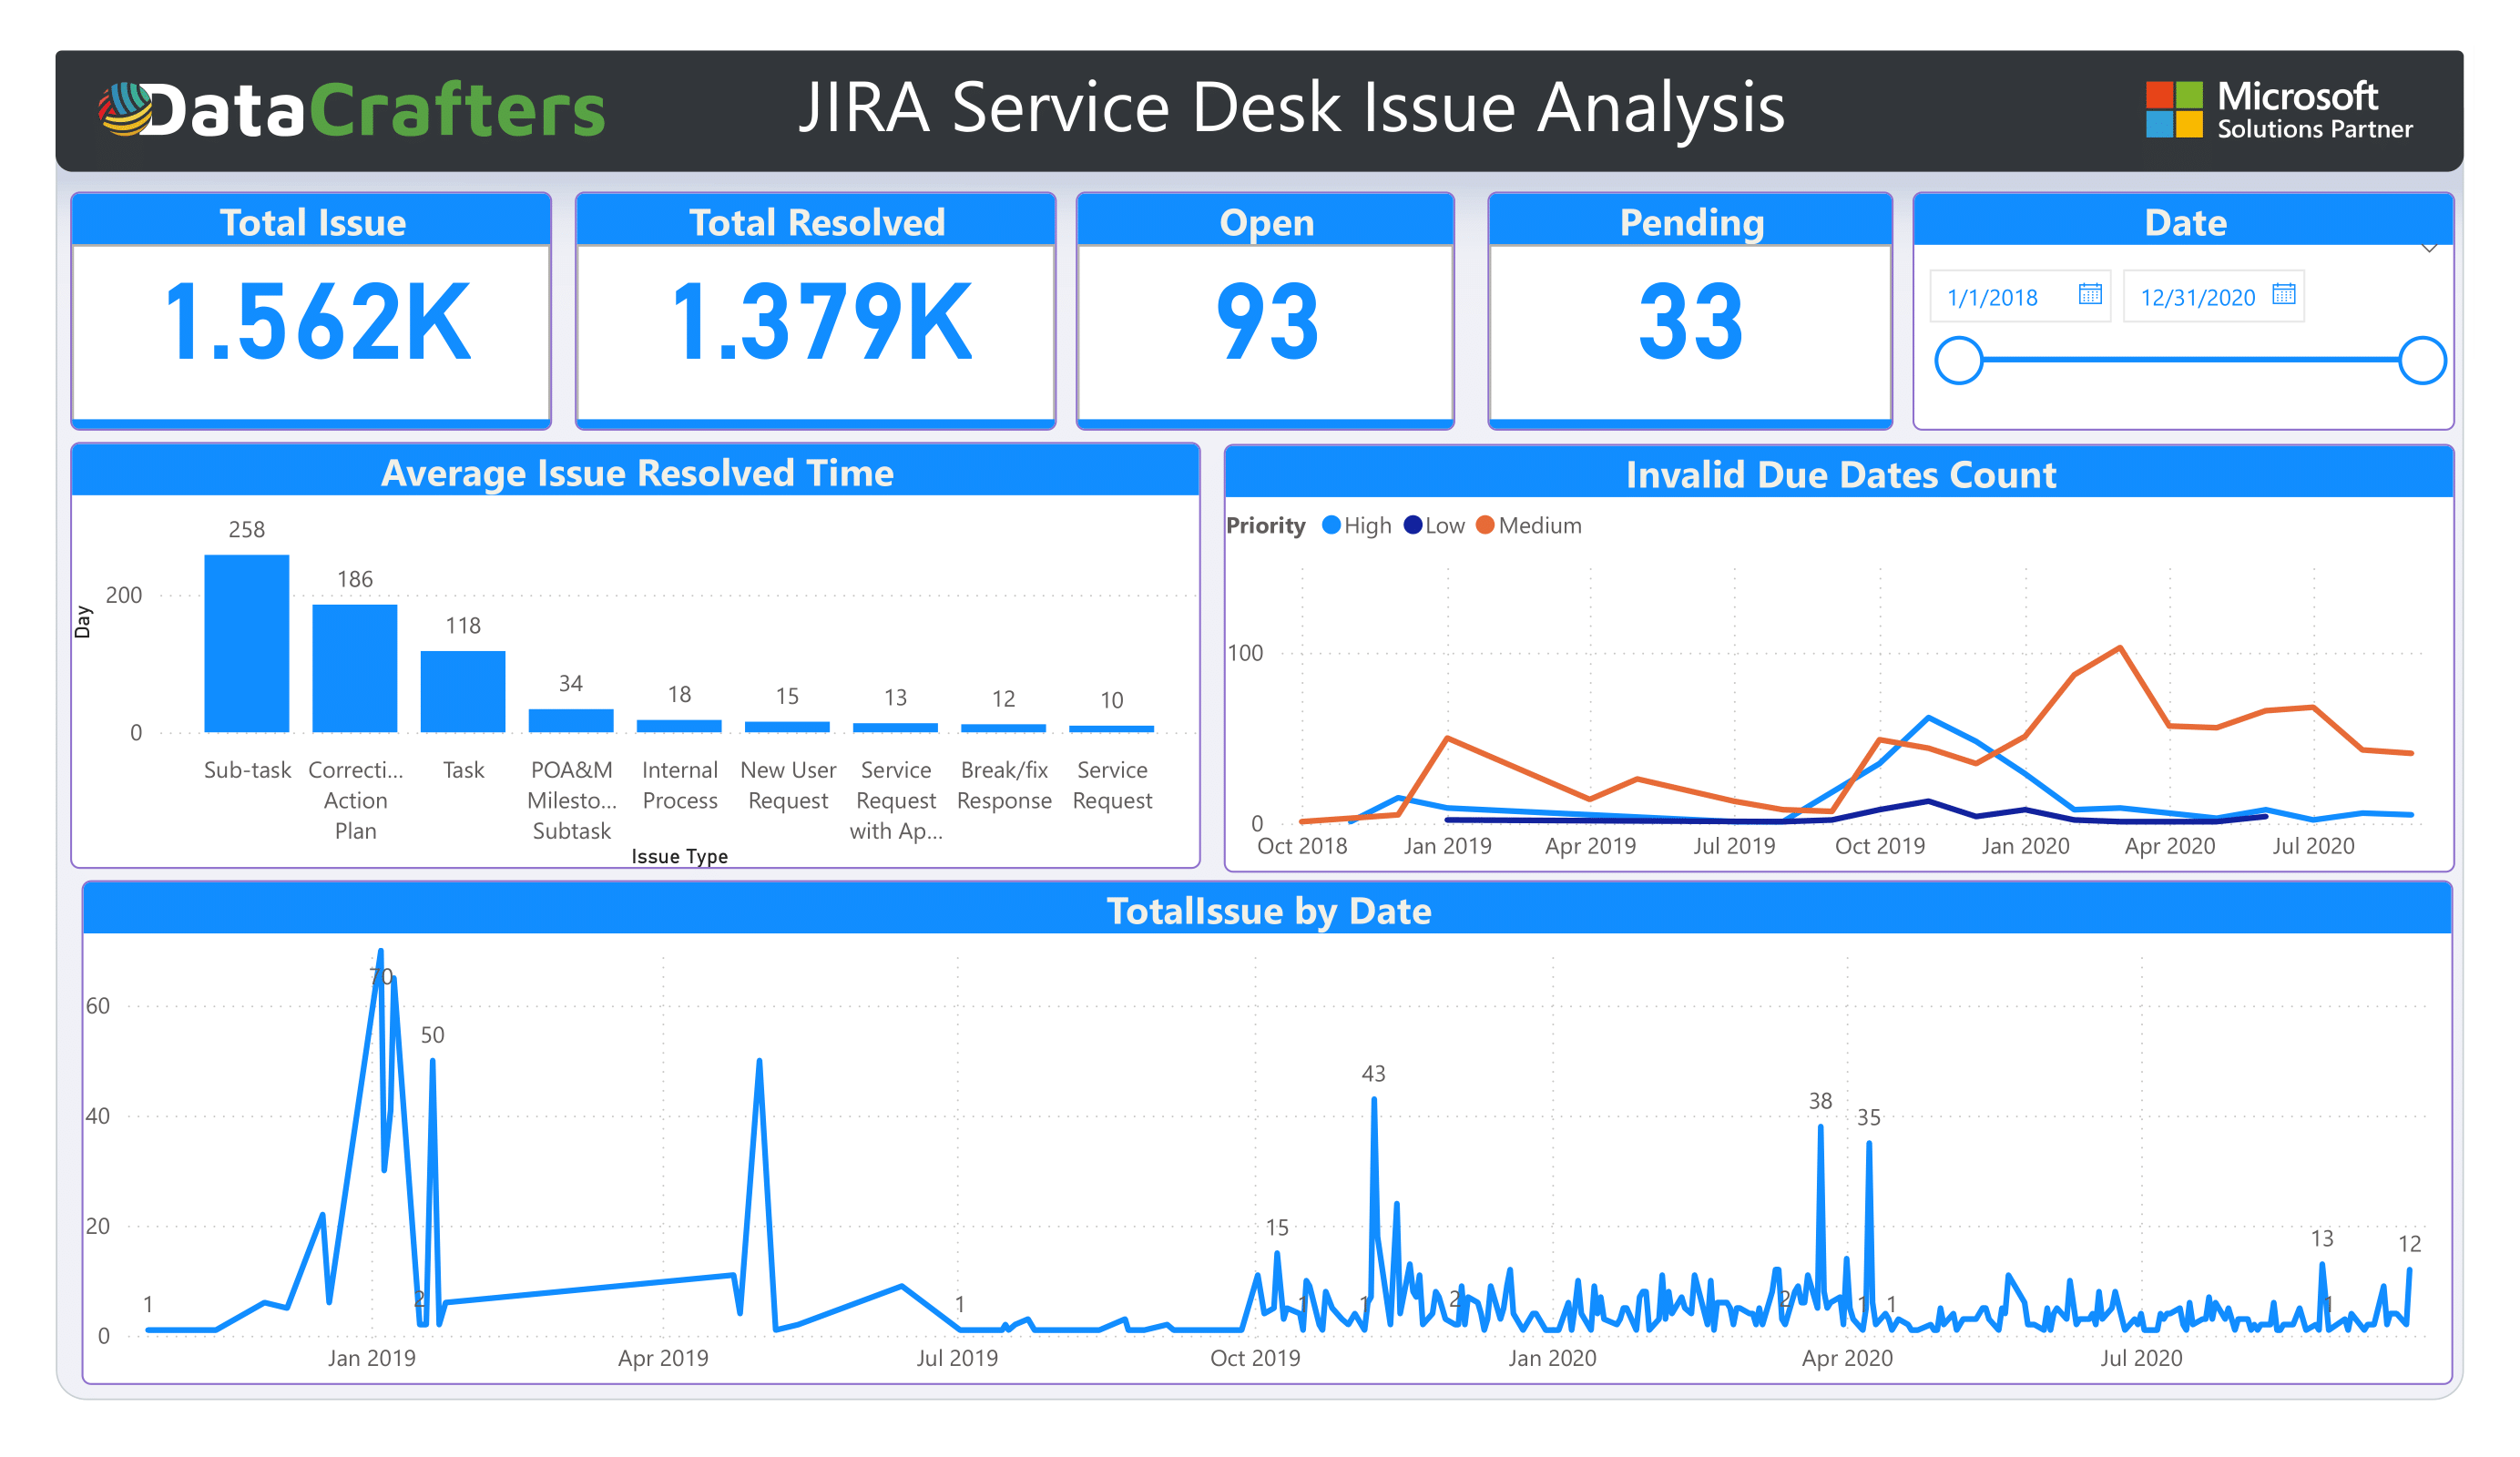

This screenshot's page, from the dashboard's own definition file:
{"tool":"powerbi","page":{"name":"Page 3","canvas":[1280,720],"ordinal":1},"visuals":[{"type":"lineChart","fields":{"Category":["dim_Date.Date.Variation.Date Hierarchy.Year"],"Y":["Table.TotalIssue"]},"box":[18.6,440,1250,265.7],"z":0},{"type":"clusteredColumnChart","title":"Average Issue Resolved Time","fields":{"Category":["dim_Issue Type.Issue Type"],"Y":["Table.Average Resolution Time"]},"box":[12.9,208.6,595.7,225.7],"z":2000},{"type":"lineChart","title":"Invalid Due Dates Count","fields":{"Category":["dim_Date.Date.Variation.Date Hierarchy.Year","dim_Date.Date.Variation.Date Hierarchy.Month"],"Y":["Table.Invalid Due Dates Count"],"Series":["dim_Priority.Priority"]},"box":[621.4,210,648.6,225.7],"z":3000},{"type":"cardVisual","title":"Open","fields":{"Data":["Table.Open"]},"box":[542.9,77.1,200,125.7],"z":3001},{"type":"cardVisual","title":"Pending","fields":{"Data":["Table.Pending"]},"box":[760,77.1,214.3,125.7],"z":3002},{"type":"cardVisual","title":"Total Resolved","fields":{"Data":["Table.TotalResolved"]},"box":[278.6,77.1,254.3,125.7],"z":3003},{"type":"cardVisual","title":"Total Issue","fields":{"Data":["Table.TotalIssue"]},"box":[12.9,77.1,254.3,125.7],"z":3004},{"type":"slicer","title":"Date","fields":{"Values":["dim_Date.Date"]},"box":[984.3,77.1,285.7,125.7],"z":3005},{"type":"textbox","box":[392.5,0,555.7,71.4],"z":3006}]}

Visuals, with their boxes on the page's 1280x720 design canvas (x1, y1, x2, y2). These are canvas units, not pixel positions in the 2520x1457 screenshot, which may show the page scaled, cropped or inside an application window:
lineChart - dim_Date.Date.Variation.Date Hierarchy.Year x Table.TotalIssue: x1=19, y1=440, x2=1269, y2=706
"Average Issue Resolved Time" clusteredColumnChart: x1=13, y1=209, x2=609, y2=434
"Invalid Due Dates Count" lineChart: x1=621, y1=210, x2=1270, y2=436
"Open" cardVisual: x1=543, y1=77, x2=743, y2=203
"Pending" cardVisual: x1=760, y1=77, x2=974, y2=203
"Total Resolved" cardVisual: x1=279, y1=77, x2=533, y2=203
"Total Issue" cardVisual: x1=13, y1=77, x2=267, y2=203
"Date" slicer: x1=984, y1=77, x2=1270, y2=203
textbox: x1=392, y1=0, x2=948, y2=71
